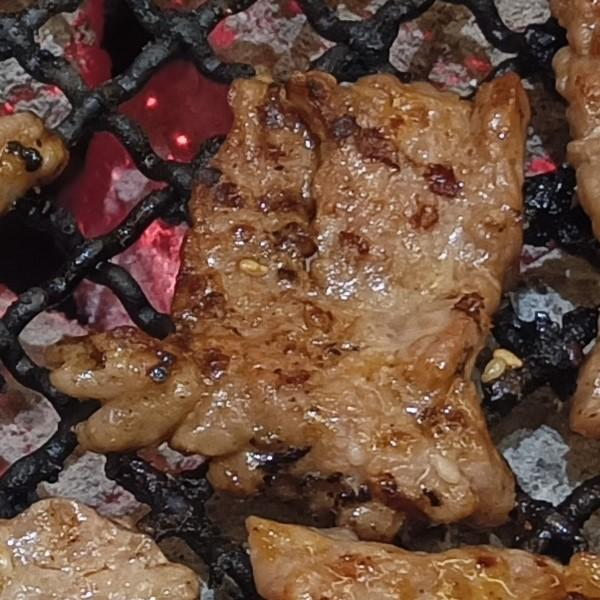Overcooked: (52, 73, 531, 520), (0, 111, 69, 212)
Well-Cooked: (245, 518, 599, 599), (0, 499, 202, 599)
